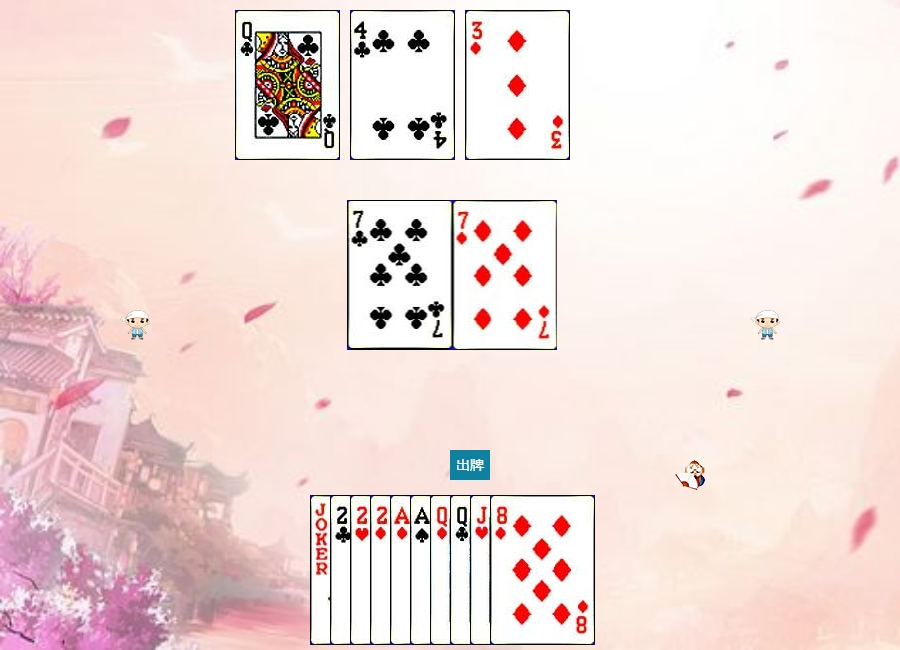11~3: (470, 495, 575, 645)
12~1: (430, 495, 535, 645)
12~2: (235, 10, 340, 160), (450, 495, 555, 645)
14~1: (390, 495, 495, 645)
14~4: (410, 495, 515, 645)
15~1: (370, 495, 475, 645)
15~2: (330, 495, 435, 645)
15~3: (350, 495, 455, 645)
18~4: (310, 495, 415, 645)
3~1: (465, 10, 570, 160)
4~2: (350, 10, 455, 160)
7~1: (453, 200, 558, 350)
7~2: (348, 200, 453, 350)
8~1: (490, 495, 595, 645)
